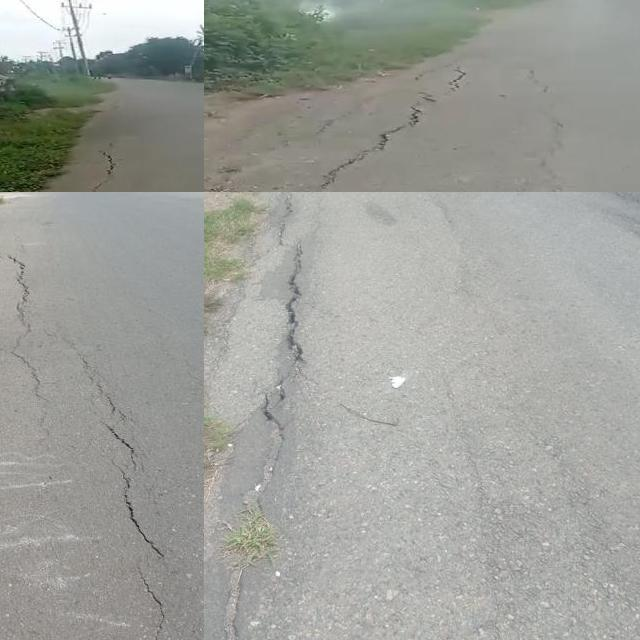Memanjang: (71, 345, 178, 574), (1, 242, 41, 355)
Pinggir: (204, 192, 332, 640), (204, 8, 499, 192), (0, 93, 150, 192)
